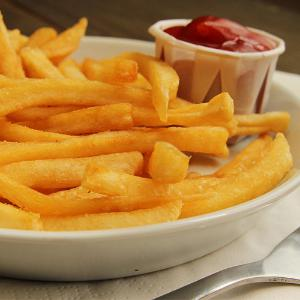fries_350cal: (3, 54, 295, 237)
